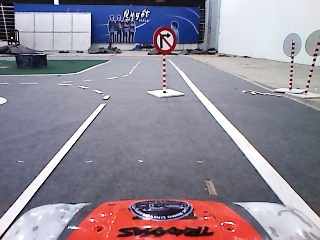ban: (152, 25, 178, 55)
